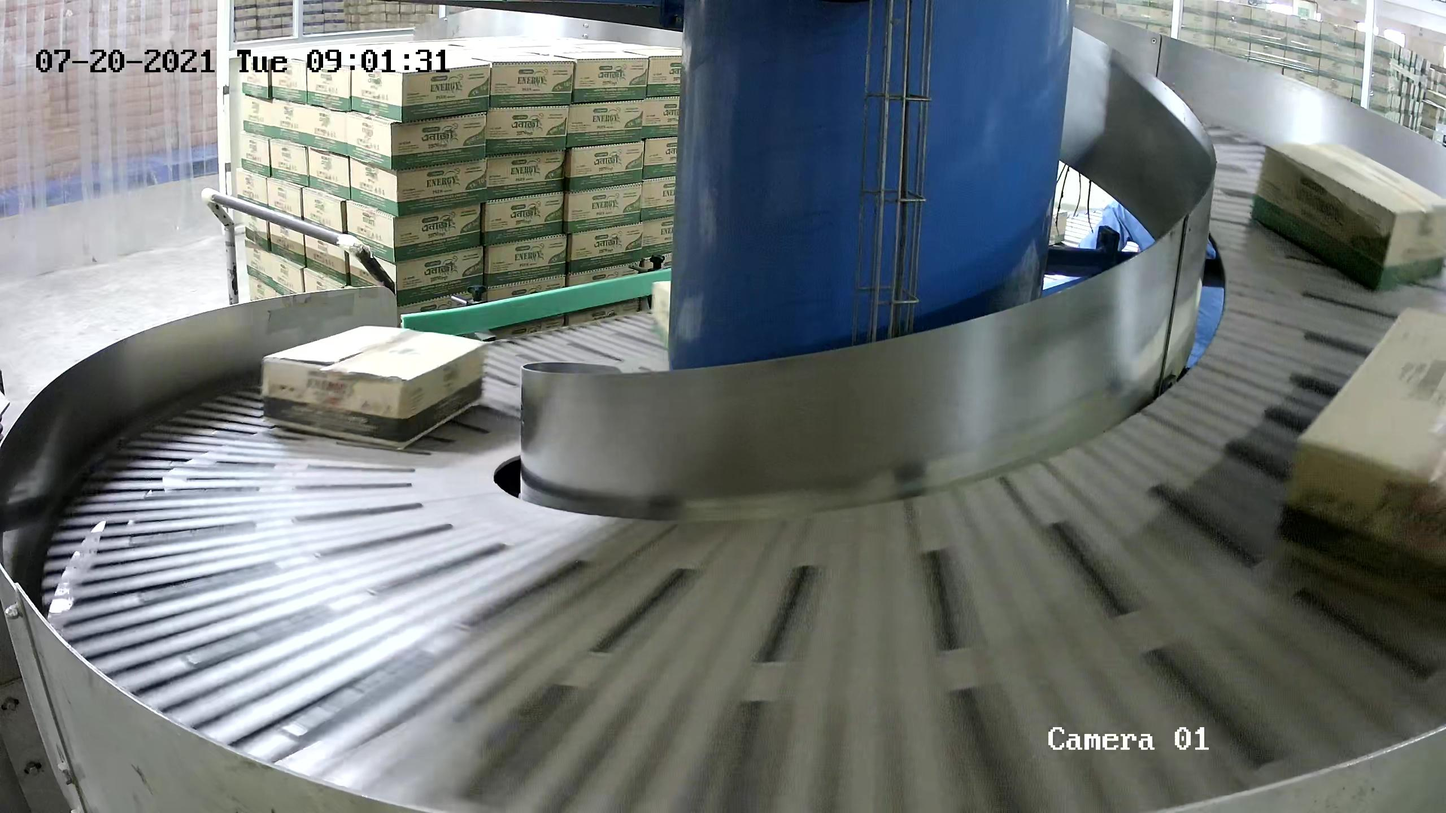Box: (1278, 304, 1446, 615), (1250, 140, 1446, 295), (259, 325, 486, 450), (650, 280, 671, 345)
